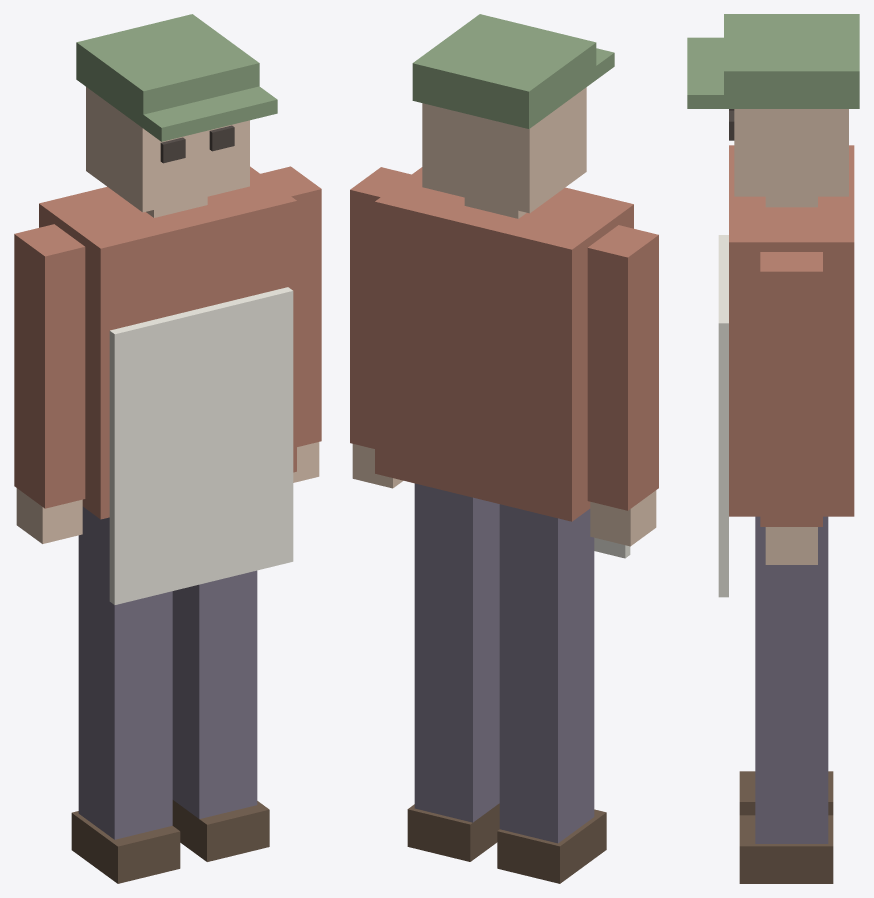
The model's file is Innkeeper.glb.
3 views of the same model, side by side, from view 1: azimuth 30°, elevation 25°; view 2: azimuth 150°, elevation 25°; view 3: azimuth 270°, elevation 25° (orthographic).
Parts seen in each view (by area): view 1: Innkeeper; view 2: Innkeeper; view 3: Innkeeper.
Boxes of the visible parts, left/top/right/bottom form: Innkeeper: left=14, top=14, right=321, bottom=883; Innkeeper: left=350, top=14, right=658, bottom=883; Innkeeper: left=687, top=14, right=859, bottom=883.
Bounding box in the file's own units: 0.62 × 1.7 × 0.33.
